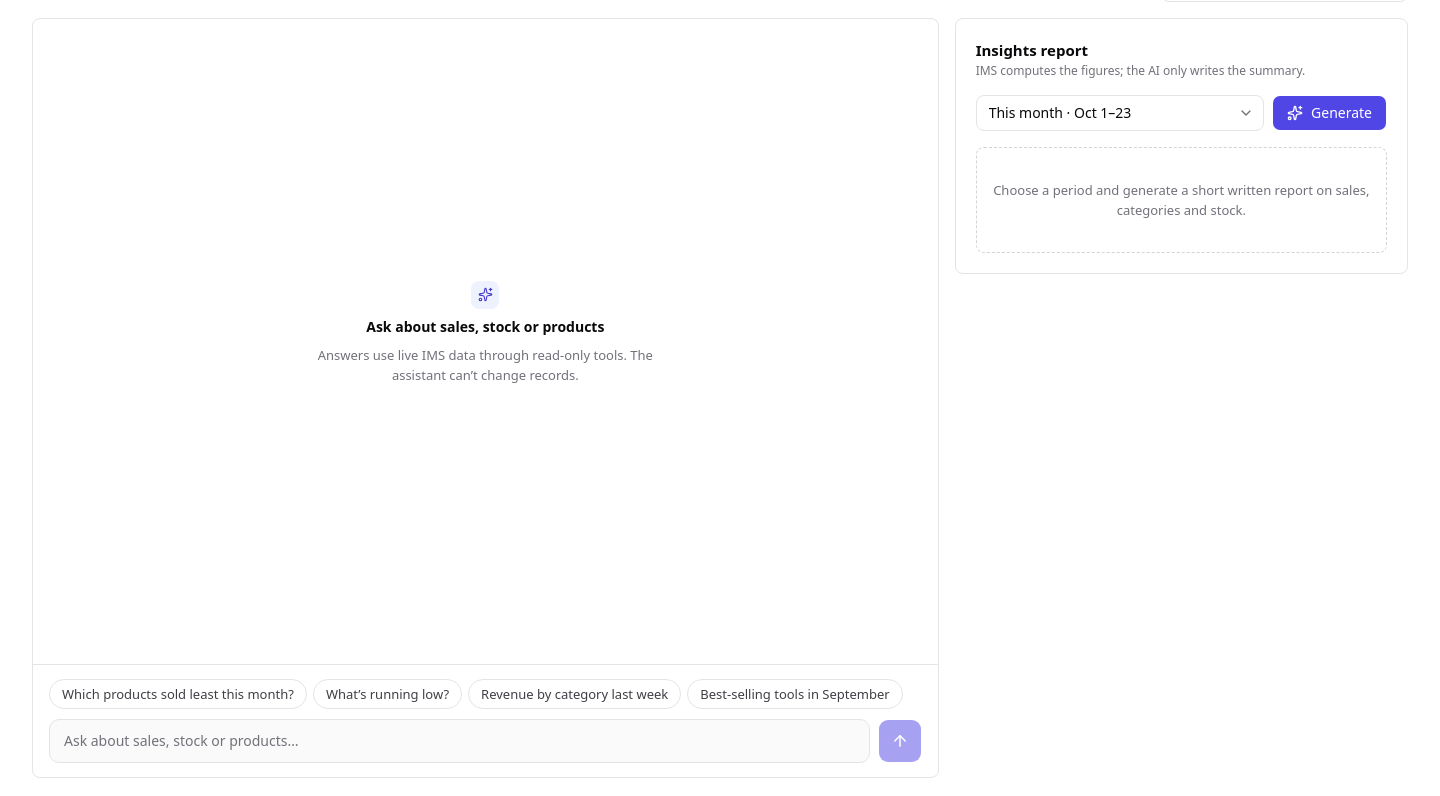
Scenario: AssistantPage (M8) › sends the question and shows the answer with its rows, data sources and new quota
The image size is (1440, 796).
(page scrolled)
In the text box labelled "Ask about sales, stock or products…": (459, 741) [49,719,870,763], type "What’s running low?"
Then press Enter
(page scrolled)
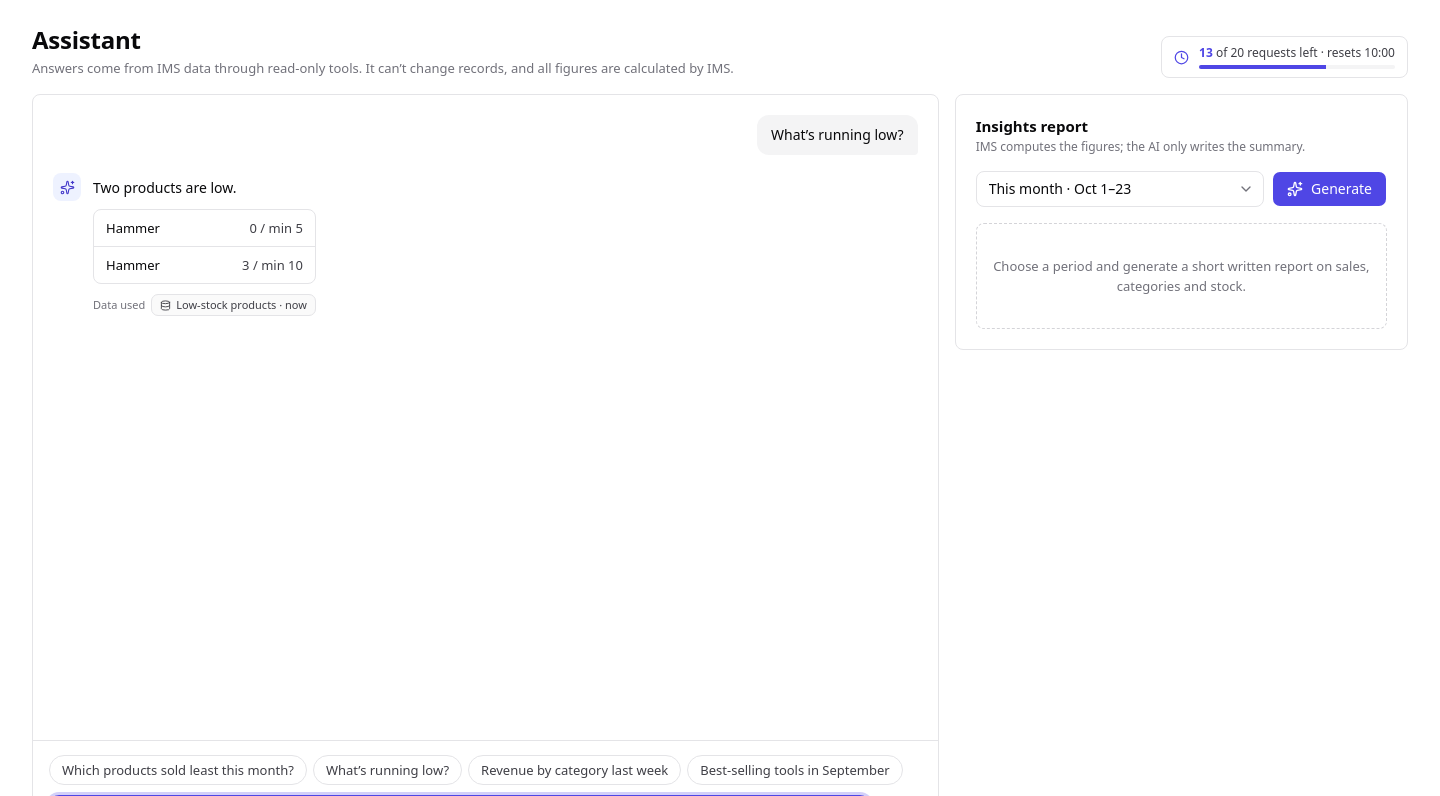
Check: the text "Two products are low." is shown, box [93,178,236,197]
Check: the text "0 / min 5" is shown, box [250,218,303,238]
Check: the text "3 / min 10" is shown, box [242,255,303,275]
